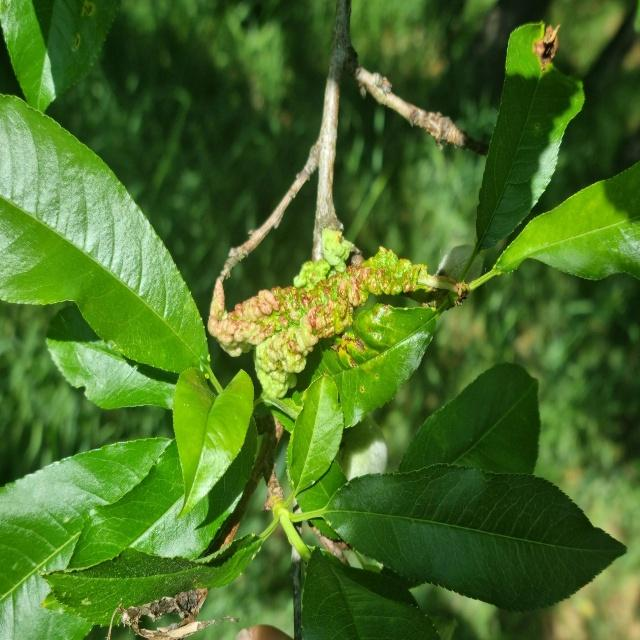leaf_curl: (204, 223, 453, 375)
